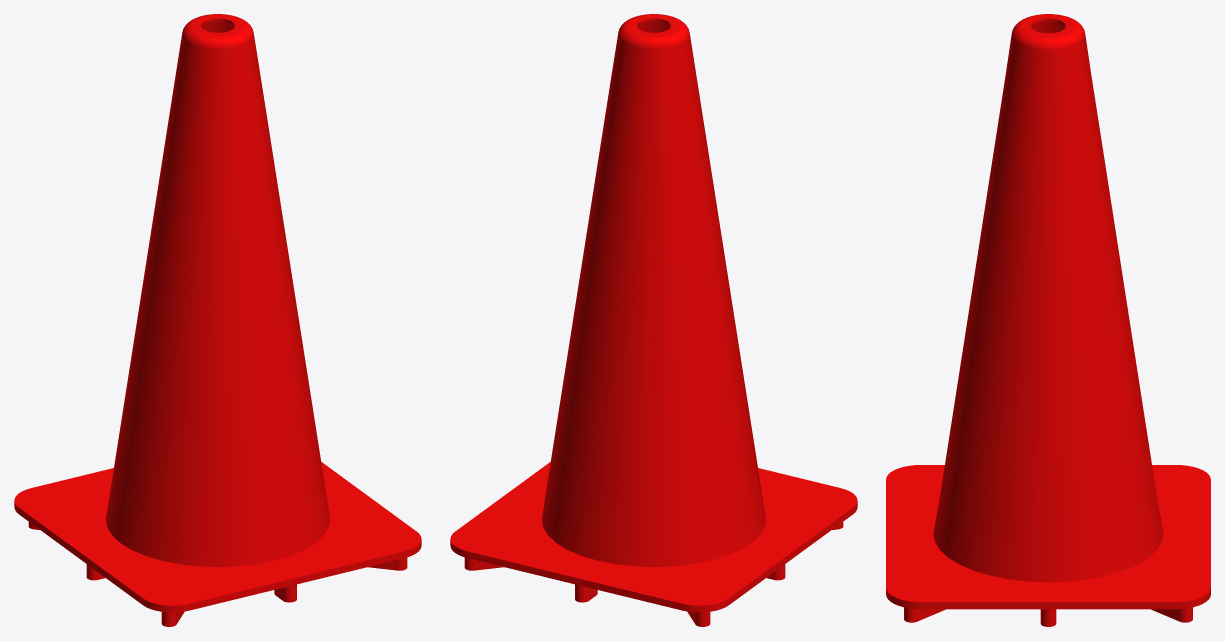
3 views of the same model, side by side, from view 1: azimuth 30°, elevation 25°; view 2: azimuth 150°, elevation 25°; view 3: azimuth 270°, elevation 25° (orthographic). The views are drawn at different scales.
Parts seen in each view (by area): view 1: 18in Cone; view 2: 18in Cone; view 3: 18in Cone.
Boxes of the visible parts, x1=… form: 18in Cone: x1=14, y1=14, x2=421, y2=626; 18in Cone: x1=450, y1=14, x2=857, y2=626; 18in Cone: x1=886, y1=14, x2=1210, y2=626.
Size of the model in its own units: 0.2667 by 0.4851 by 0.2667.
